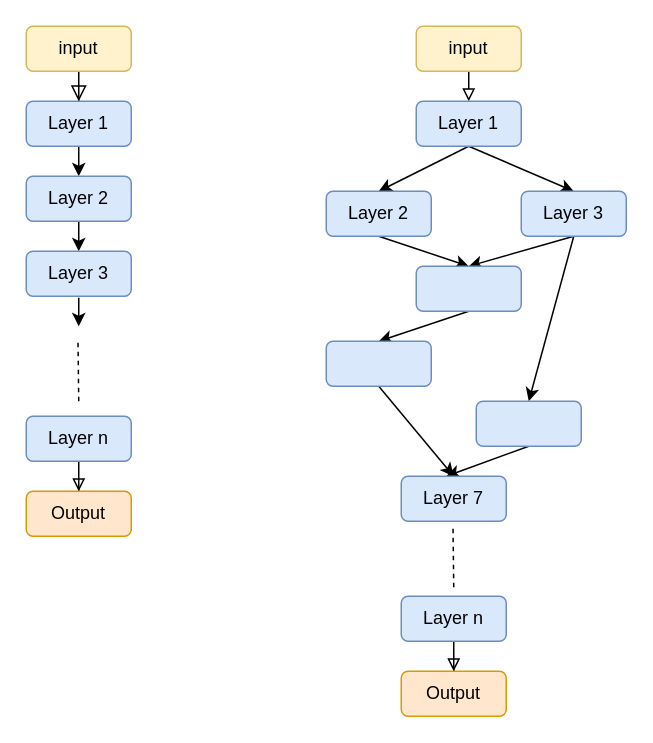
The diagram is 653 pixels wide and 743 high, and some of its shapes have lost their labels. Each missing label, with the box of its shape:
Layer 4: (415, 265, 521, 311)
Layer 5: (325, 340, 431, 386)
Layer 6: (475, 400, 581, 446)
